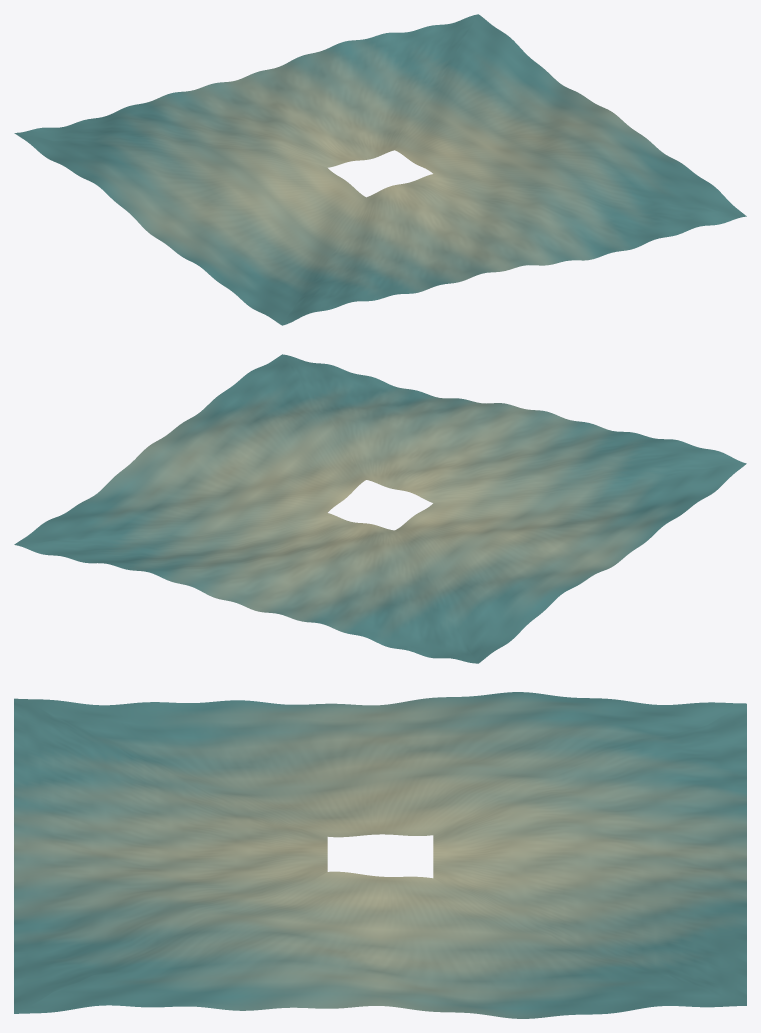
The model's file is seabed_1.glb.
3 renders of one model, top to bottom at view 1: azimuth 30°, elevation 25°; view 2: azimuth 150°, elevation 25°; view 3: azimuth 270°, elevation 25°, orthographic. The views are drawn at different scales.
Visible parts, largest first — view 1: seabed_1_painted_mesh; view 2: seabed_1_painted_mesh; view 3: seabed_1_painted_mesh.
Boxes of the visible parts, x1,y1,x2,y2 form: seabed_1_painted_mesh: [14, 14, 746, 325]; seabed_1_painted_mesh: [14, 354, 746, 663]; seabed_1_painted_mesh: [14, 692, 746, 1018].
Bounding box in the file's own units: 900 × 37.53 × 900.
